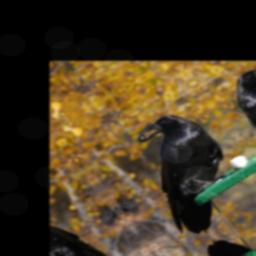Crow: (108, 103, 256, 242)
